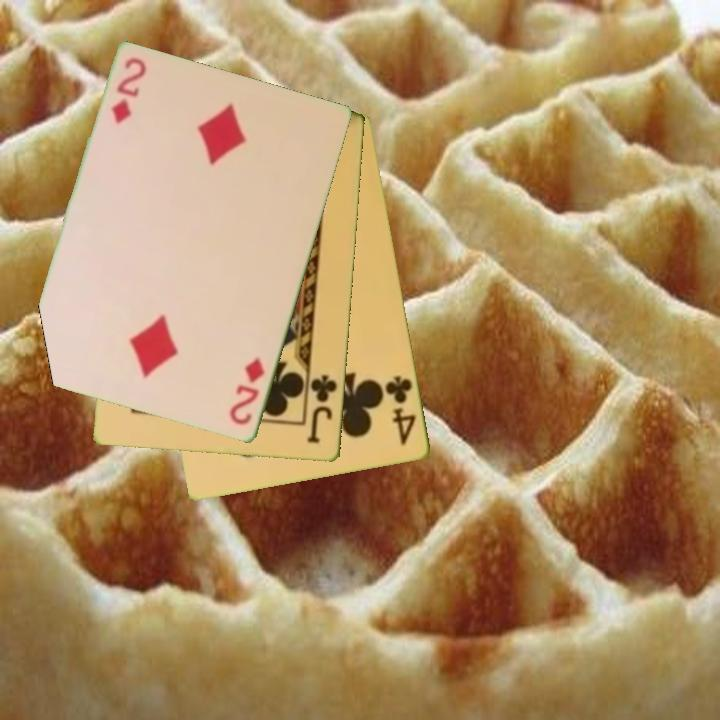2d: (226, 354, 268, 429), (108, 54, 149, 127)
4c: (381, 372, 420, 448)
Jc: (304, 371, 341, 447)
